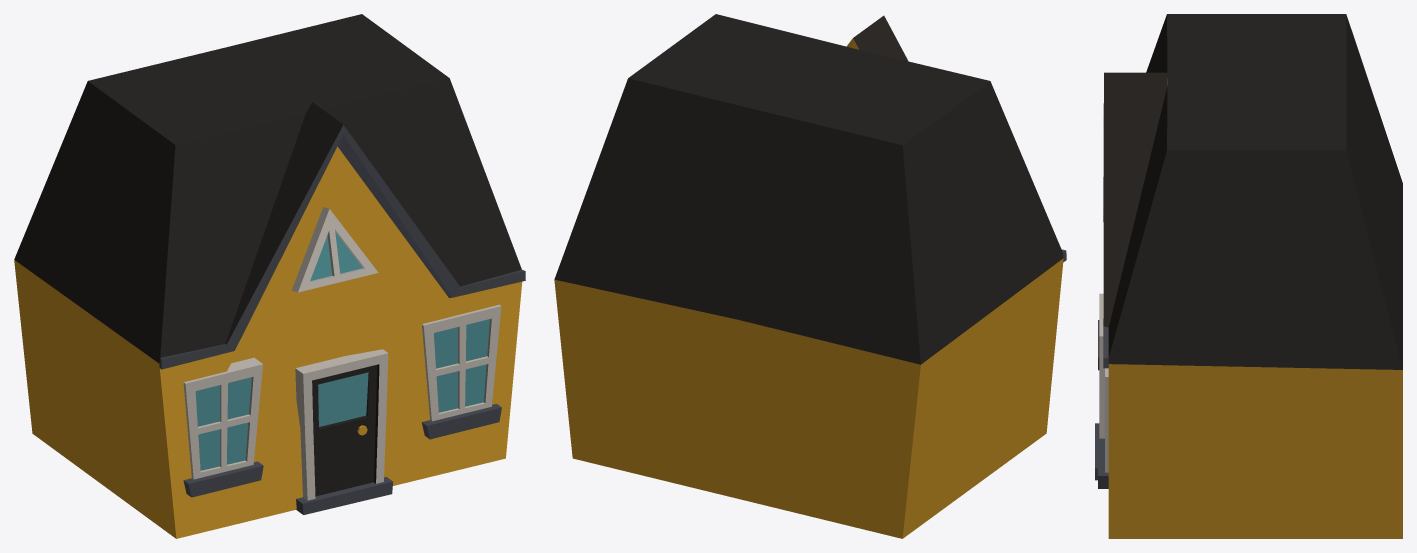
Rendered from Home.fbx.
The picture shows the model from 3 angles, left to right: view 1: azimuth 30°, elevation 25°; view 2: azimuth 150°, elevation 25°; view 3: azimuth 270°, elevation 25°; orthographic projection. The views are drawn at different scales.
Visible parts, largest first — view 1: Home; view 2: Home; view 3: Home.
Part boxes in pixels (x1=…): Home: x1=14, y1=14, x2=525, y2=538; Home: x1=554, y1=14, x2=1066, y2=538; Home: x1=1095, y1=14, x2=1402, y2=538.
Size of the model in its own units: 340 by 335 by 242.
